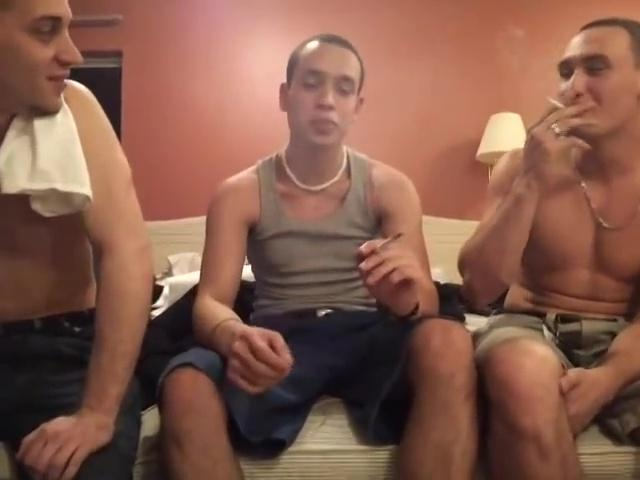cigarette: (371, 229, 407, 256), (545, 93, 567, 111)
